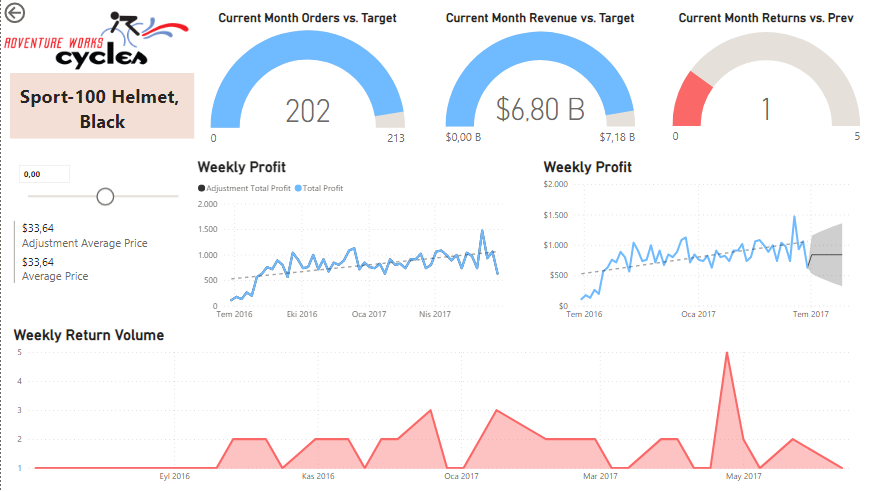

What the dashboard file says about the page in this screenshot:
{"tool":"powerbi","page":{"name":"Product Detail","canvas":[1280,720],"ordinal":1},"visuals":[{"type":"image","box":[0,0,280,120],"z":0},{"type":"lineChart","title":"Weekly Profit","fields":{"Y":["AW_Sales.Total Profit"],"Category":["AW_Calendar_Lookup.Hafta Başı"]},"box":[781.8,229.9,468.5,244.3],"z":1000},{"type":"areaChart","title":"Weekly Return Volume","fields":{"Category":["AW_Calendar_Lookup.Hafta Başı"],"Y":["AW_Returns.Total Returns"]},"box":[12.9,474.3,1237.4,235.7],"z":2000},{"type":"gauge","title":"Current Month Orders vs. Target","fields":{"Y":["AW_Sales.Total Orders"],"MaxValue":["AW_Sales.Order Target"]},"box":[298.9,15.8,291.7,209.8],"z":3000},{"type":"gauge","title":"Current Month Revenue vs. Target","fields":{"Y":["AW_Sales.Total Revenue"],"MaxValue":["AW_Sales.Revenue Target"]},"box":[639.5,15.8,284.6,209.8],"z":4000},{"type":"gauge","title":"Current Month Returns vs. Prev","fields":{"MaxValue":["AW_Returns.Prev Month Returns"],"Y":["AW_Returns.Total Returns"]},"box":[968.6,15.8,281.7,209.8],"z":5000},{"type":"card","fields":{"Values":["Min(AW_Product_Lookup.ProductName)"]},"box":[12.9,107.8,267.3,94.9],"z":6000},{"type":"actionButton","box":[0,0,100,40],"z":7000},{"type":"slicer","fields":{"Values":["Adjustment Price.Adjustment Price"]},"box":[12.9,229.9,267.3,86.2],"z":8000},{"type":"multiRowCard","fields":{"Values":["AW_Sales.Adjustment Average Price","AW_Product_Lookup.Average Price"]},"box":[12.9,316.2,219.9,138],"z":9000},{"type":"lineChart","title":"Weekly Profit","fields":{"Y":["AW_Sales.Adjustment Total Profit","AW_Sales.Total Profit"],"Category":["AW_Calendar_Lookup.Hafta Başı"]},"box":[280.2,229.9,468.5,244.3],"z":10000}]}

Visuals, with their boxes in screenshot pixels (x1, y1, x2, y2), scaled from the page's 1280x720 canvas onto the 878x492 screenshot:
image: box(0, 0, 192, 82)
"Weekly Profit" lineChart: box(536, 157, 858, 324)
"Weekly Return Volume" areaChart: box(9, 324, 858, 485)
"Current Month Orders vs. Target" gauge: box(205, 11, 405, 154)
"Current Month Revenue vs. Target" gauge: box(439, 11, 634, 154)
"Current Month Returns vs. Prev" gauge: box(664, 11, 858, 154)
card - Min(AW_Product_Lookup.ProductName): box(9, 74, 192, 139)
actionButton: box(0, 0, 69, 27)
slicer - Adjustment Price.Adjustment Price: box(9, 157, 192, 216)
multiRowCard - AW_Sales.Adjustment Average Price x AW_Product_Lookup.Average Price: box(9, 216, 160, 310)
"Weekly Profit" lineChart: box(192, 157, 514, 324)
